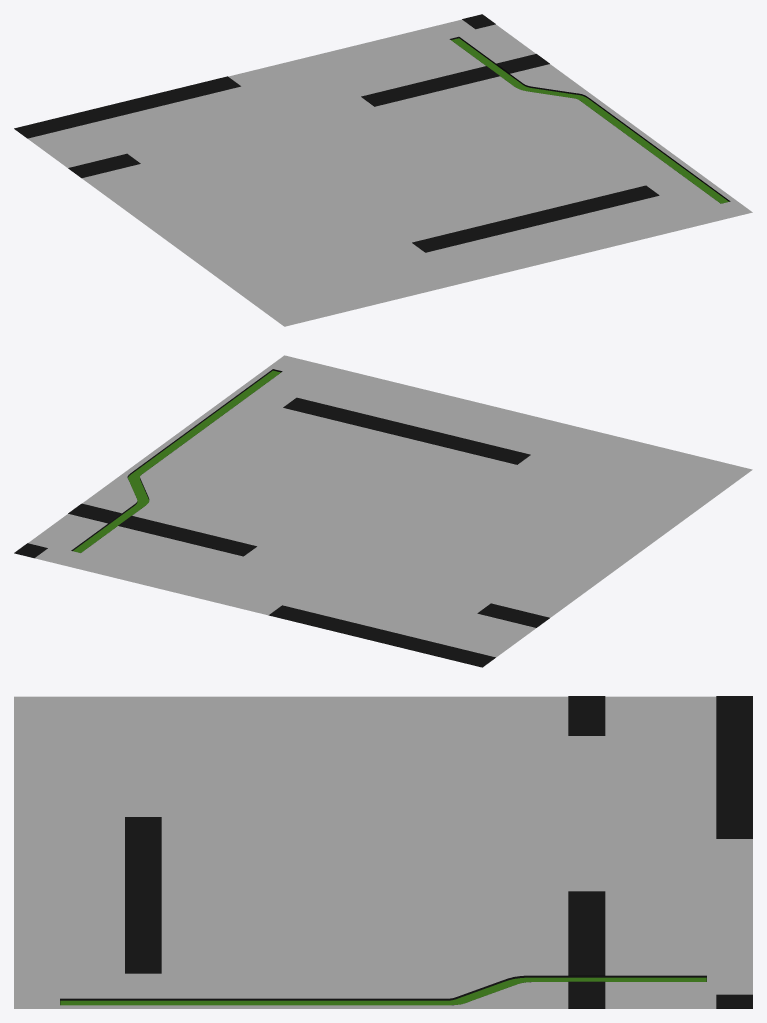
The model's file is W_M_16x16_R0_Park_Floor_b_L0.fbx.
3 renders of one model, top to bottom at view 1: azimuth 30°, elevation 25°; view 2: azimuth 150°, elevation 25°; view 3: azimuth 270°, elevation 25°, orthographic. The views are drawn at different scales.
Visible parts, largest first — view 1: W_M_16x16_R0_Park_Floor_b_L0; view 2: W_M_16x16_R0_Park_Floor_b_L0; view 3: W_M_16x16_R0_Park_Floor_b_L0.
Boxes of the visible parts, x1,y1,x2,y2 form: W_M_16x16_R0_Park_Floor_b_L0: (14,14,752,326); W_M_16x16_R0_Park_Floor_b_L0: (14,355,752,667); W_M_16x16_R0_Park_Floor_b_L0: (14,696,752,1008).
Bounding box in the file's own units: 16 × 16 × 0.0609.
